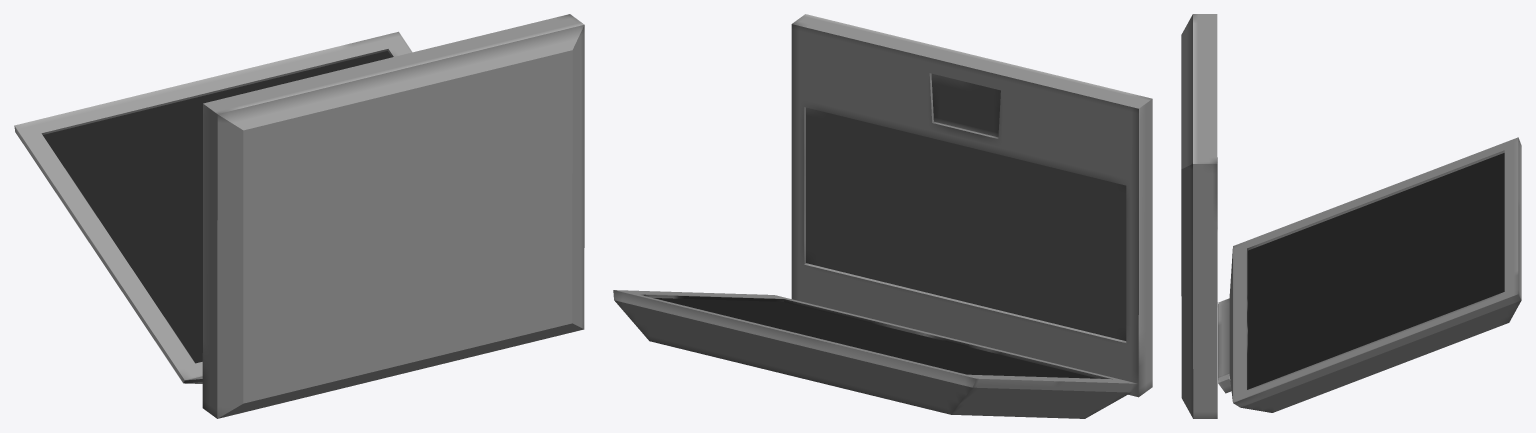
The model's file is Laptop.fbx.
3 renders of one model, left to right at view 1: azimuth 30°, elevation 25°; view 2: azimuth 150°, elevation 25°; view 3: azimuth 270°, elevation 25°, orthographic. The views are drawn at different scales.
Visible parts, largest first — view 1: Laptop; view 2: Laptop; view 3: Laptop.
Boxes of the visible parts, x1,y1,x2,y2 form: Laptop: (14, 14, 584, 418); Laptop: (613, 14, 1152, 418); Laptop: (1181, 14, 1521, 418).
Bounding box in the file's own units: 96.54 × 76.56 × 88.45.
